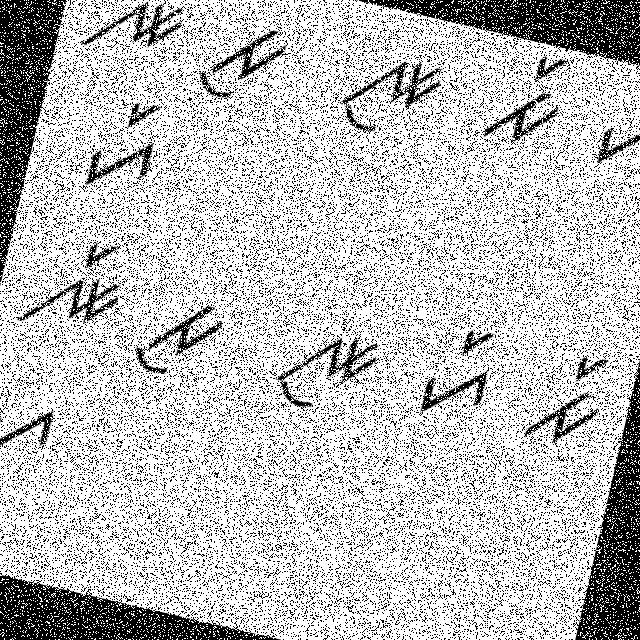ha: (590, 94, 639, 181)
har: (71, 86, 175, 204), (406, 315, 504, 430)
haw: (0, 388, 68, 494)
mbar: (517, 334, 624, 459), (476, 40, 577, 154)
mbaw: (122, 279, 235, 396), (188, 8, 295, 116)
ndar: (10, 220, 136, 348), (78, 0, 203, 76)
ndaw: (253, 312, 384, 432), (328, 26, 451, 150)
